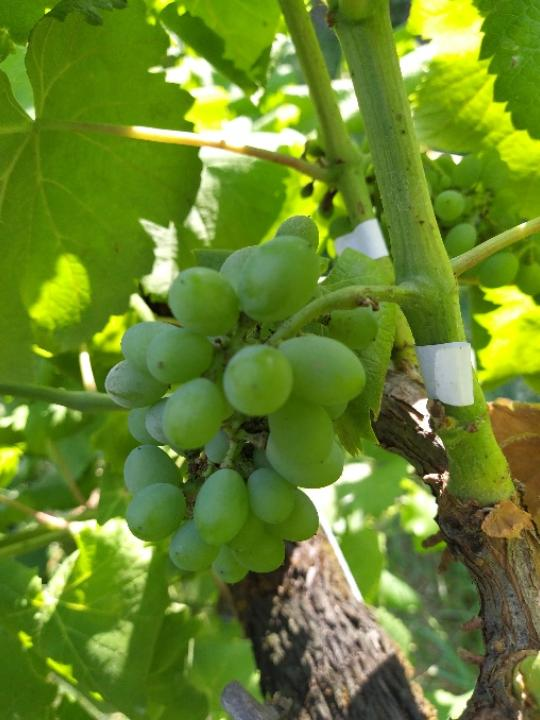grape: (101, 212, 380, 591)
